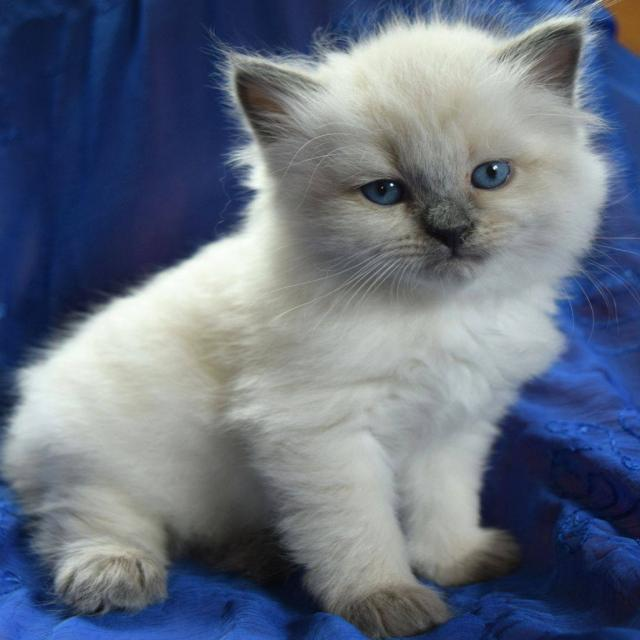Neva Masquerade: (0, 4, 618, 640)
